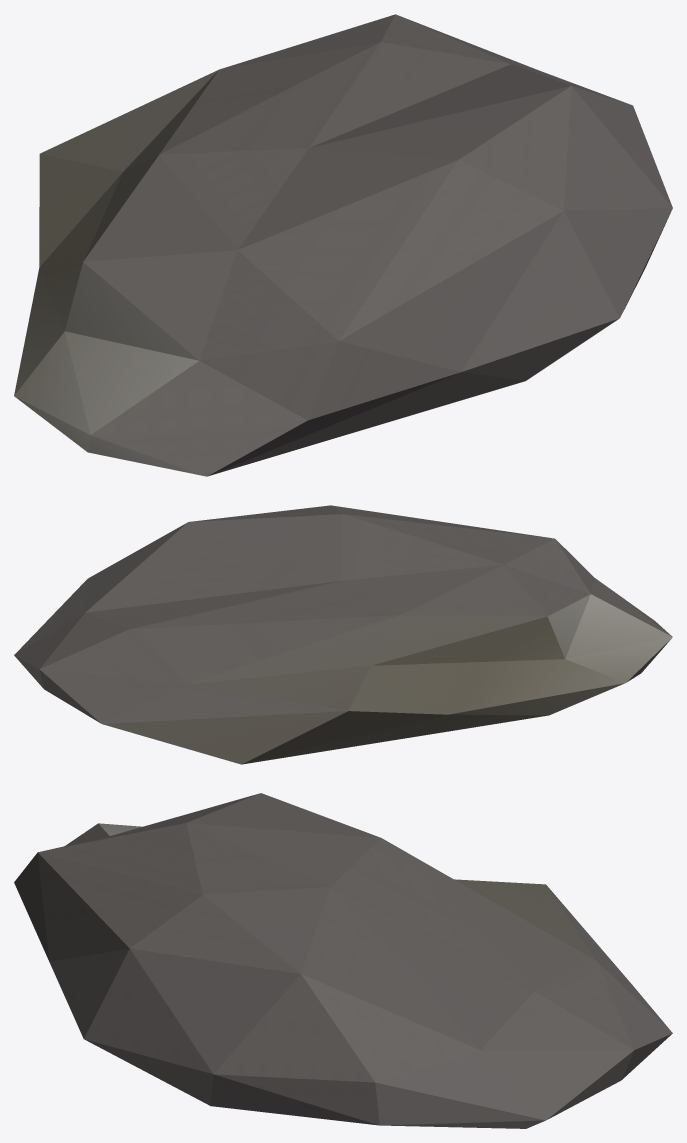
The model's file is rock9.fbx.
The picture shows the model from 3 angles, top to bottom: view 1: azimuth 30°, elevation 25°; view 2: azimuth 150°, elevation 25°; view 3: azimuth 270°, elevation 25°; orthographic projection. The views are drawn at different scales.
Visible parts, largest first — view 1: ROCKS.010; view 2: ROCKS.010; view 3: ROCKS.010.
Part boxes in pixels (x1=…): ROCKS.010: x1=14, y1=14, x2=672, y2=476; ROCKS.010: x1=14, y1=505, x2=672, y2=764; ROCKS.010: x1=14, y1=793, x2=672, y2=1128.
Size of the model in its own units: 478 by 125 by 451.
